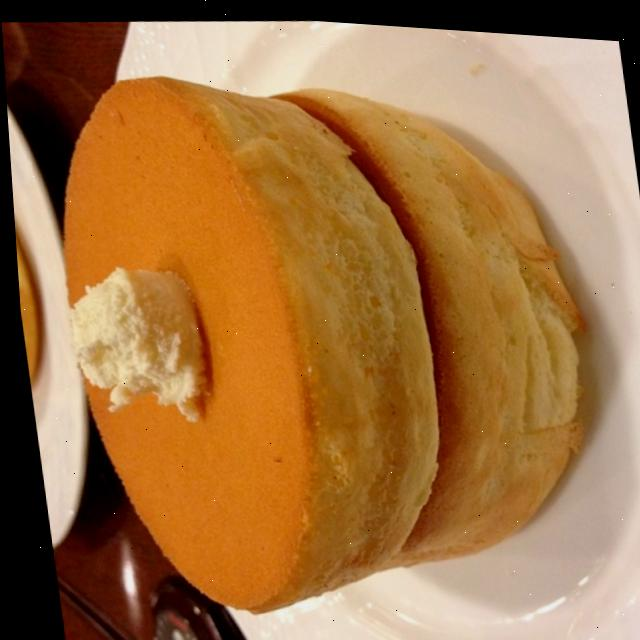刺身生食: (25, 6, 272, 216)
米饭主食: (271, 86, 640, 527)
蔬菜料理: (211, 293, 514, 640)
